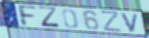0: (62, 9, 79, 30)
6: (82, 10, 100, 31)
F: (16, 4, 39, 27)
V: (121, 13, 140, 33)
Z: (37, 6, 62, 29), (100, 11, 123, 33)
